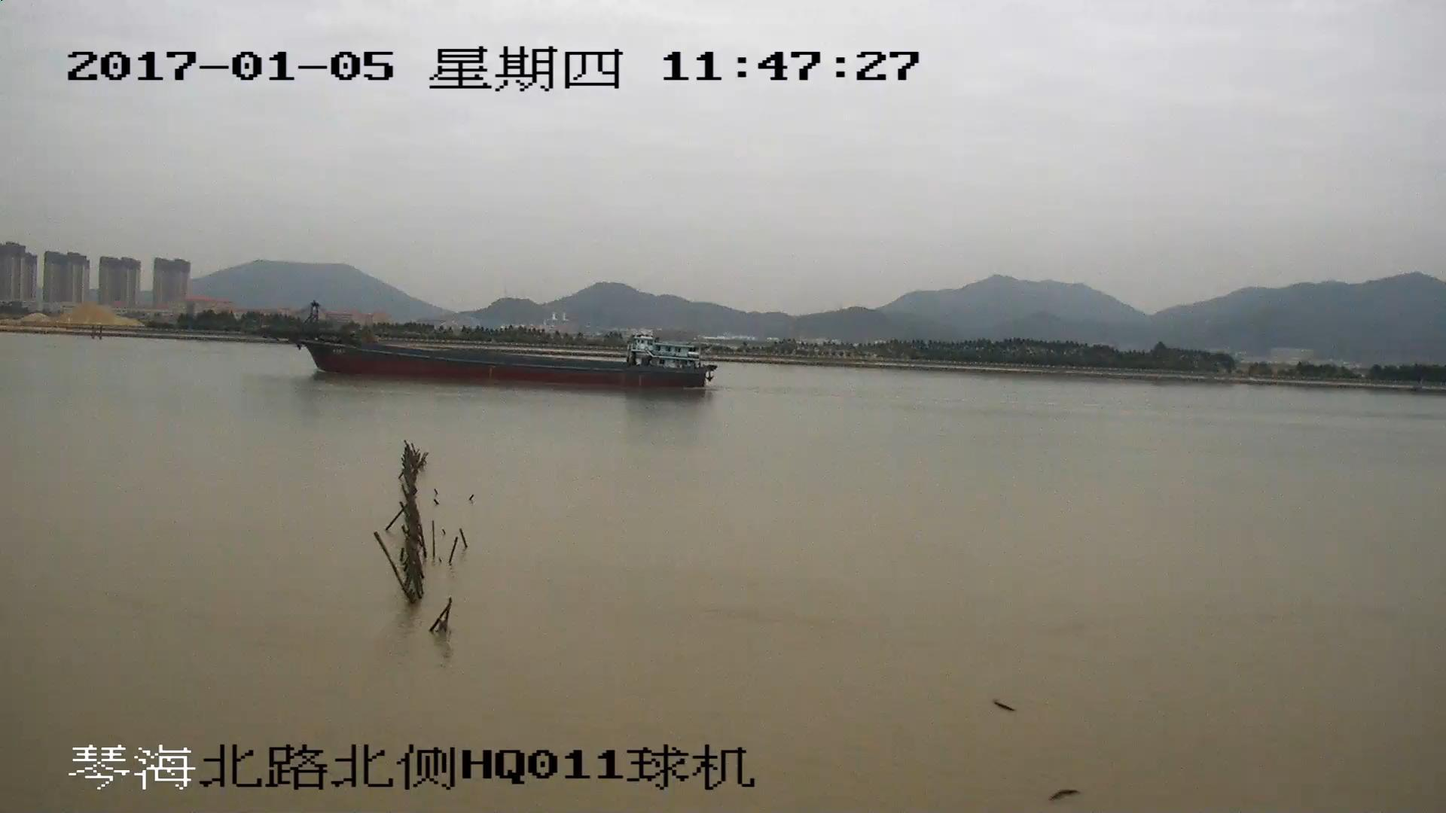bulk cargo carrier: (251, 304, 715, 391)
